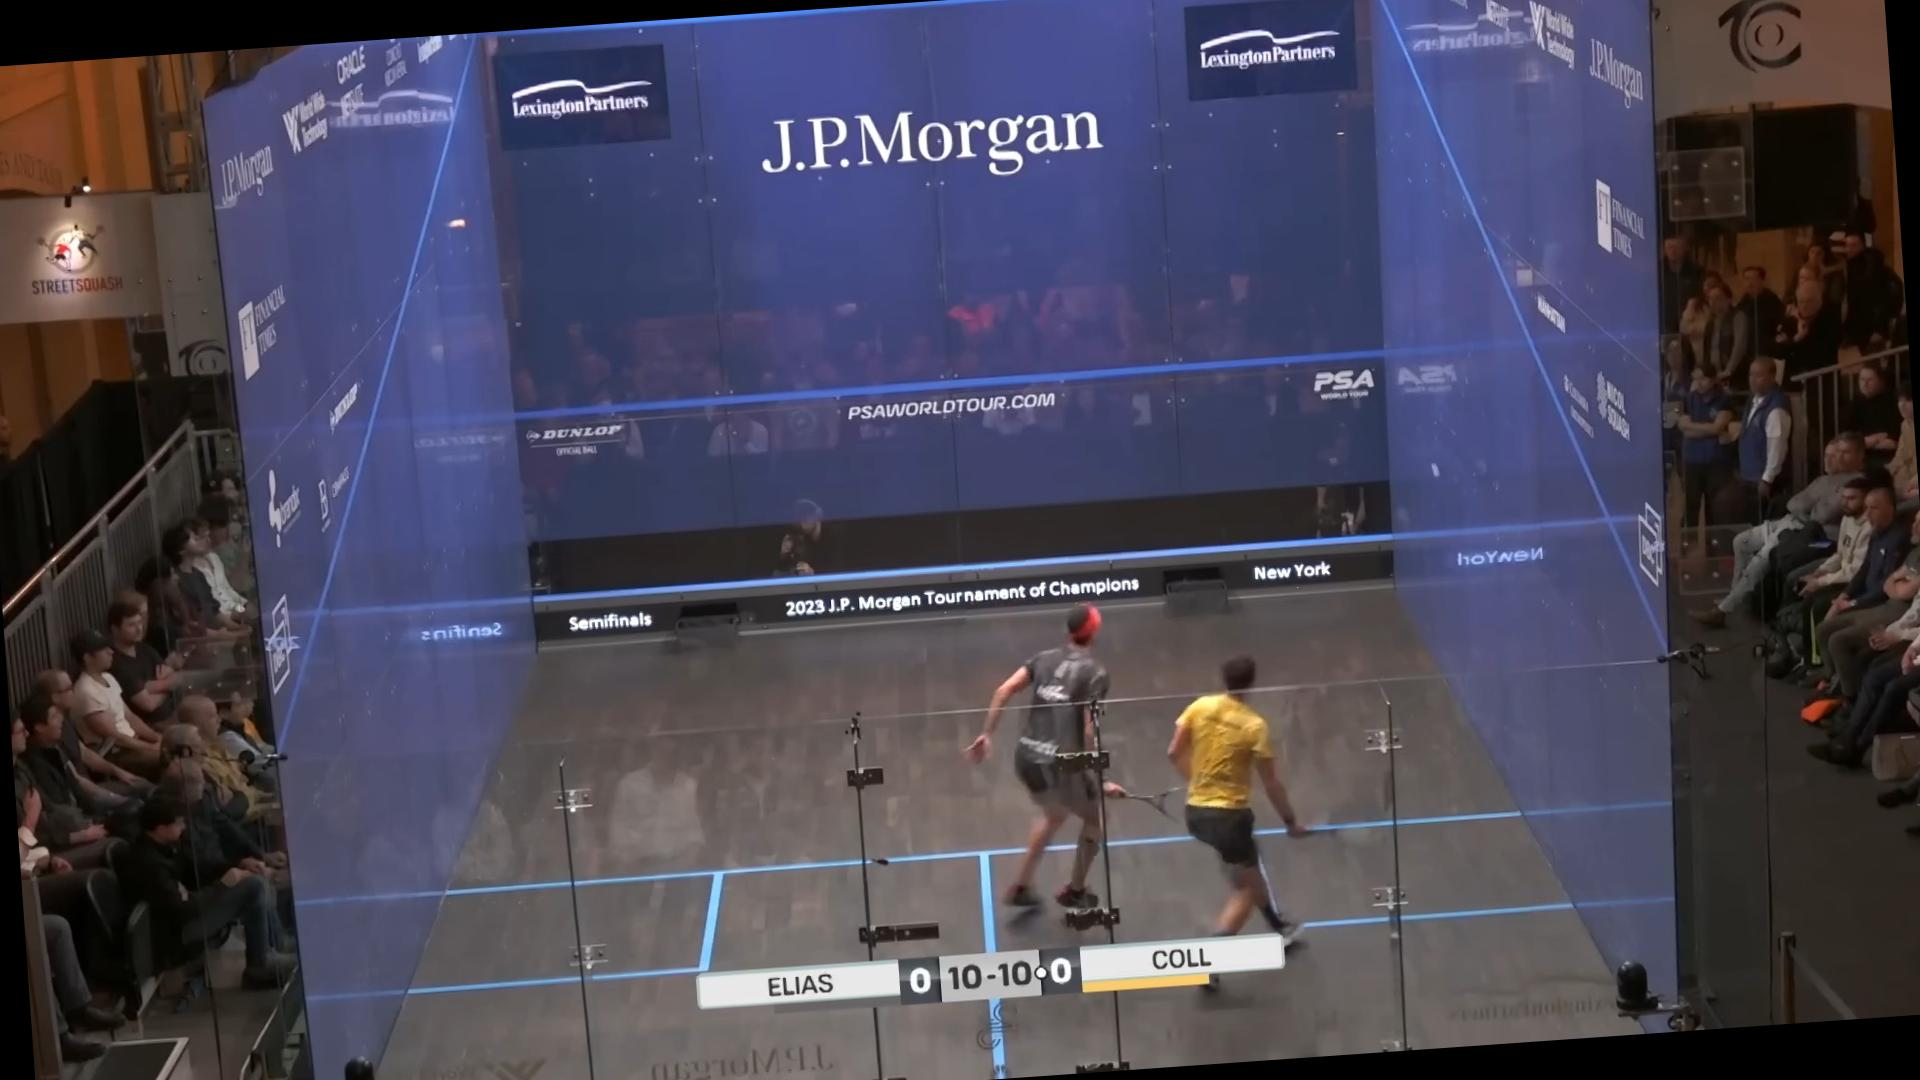Racket: (1098, 767, 1207, 837), (1304, 800, 1406, 855)
